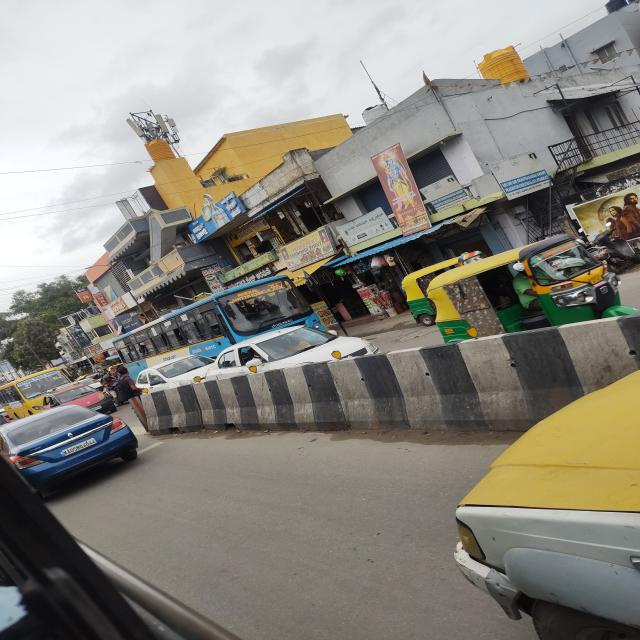bus: (103, 272, 322, 363)
display: (229, 278, 285, 308)
dnumber: (268, 280, 284, 291)
